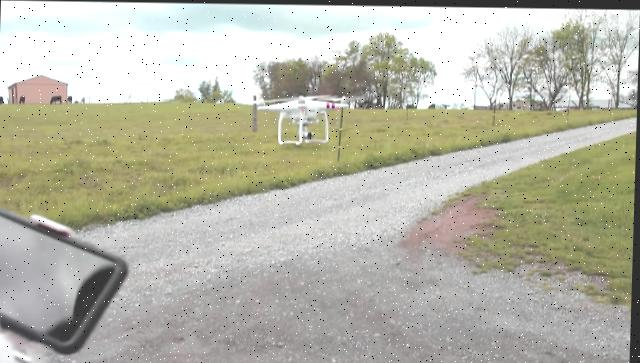drone: (255, 91, 352, 145)
